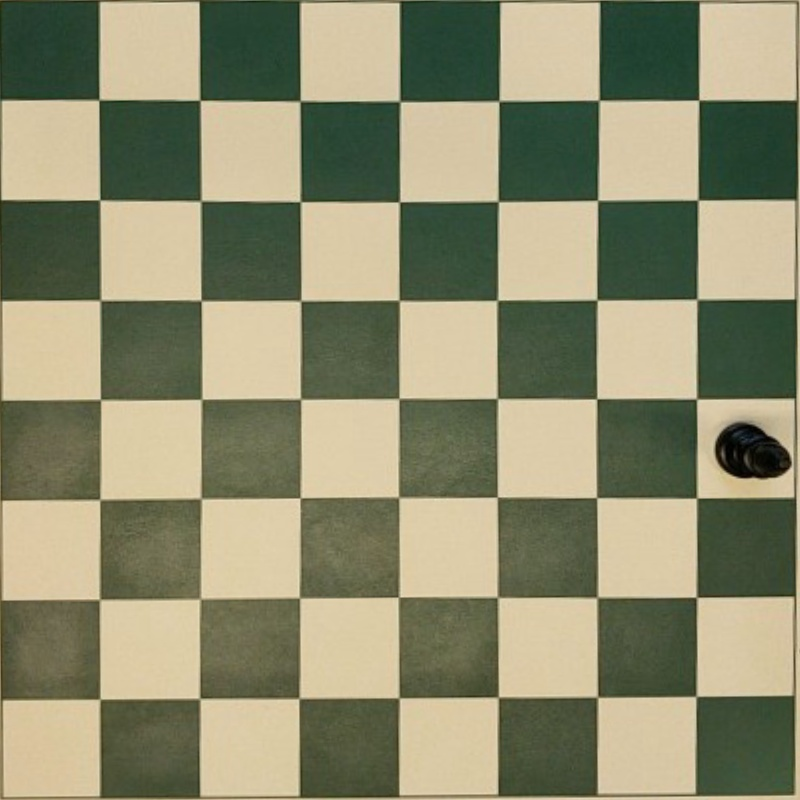black-bishop: (715, 422, 791, 480)
